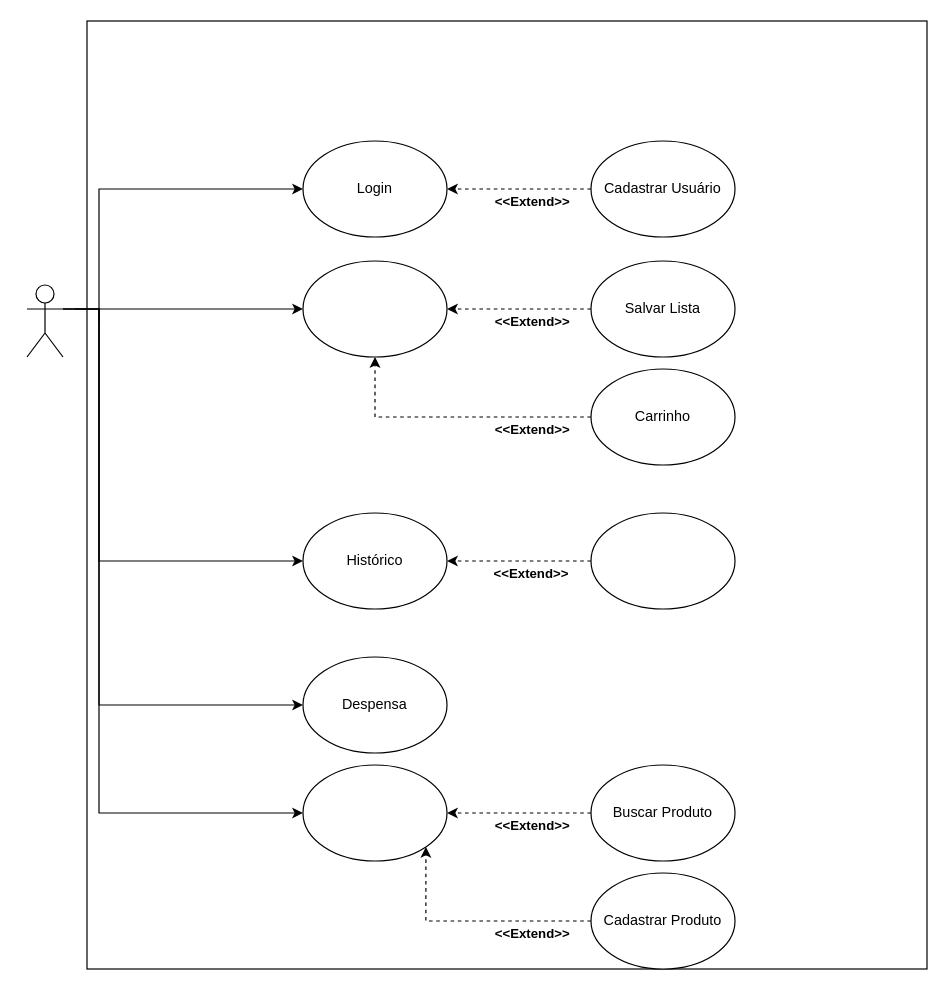
The diagram is 948 pixels wide and 990 high, and some of its shapes have lost their labels. The centre of each missing label's shape, as x and y in pixels:
"Criar Nova Lista" belongs at point (374, 308).
"Listas Salvas" belongs at point (662, 560).
"Produto" belongs at point (374, 812).
"Usuário" belongs at point (44, 320).
